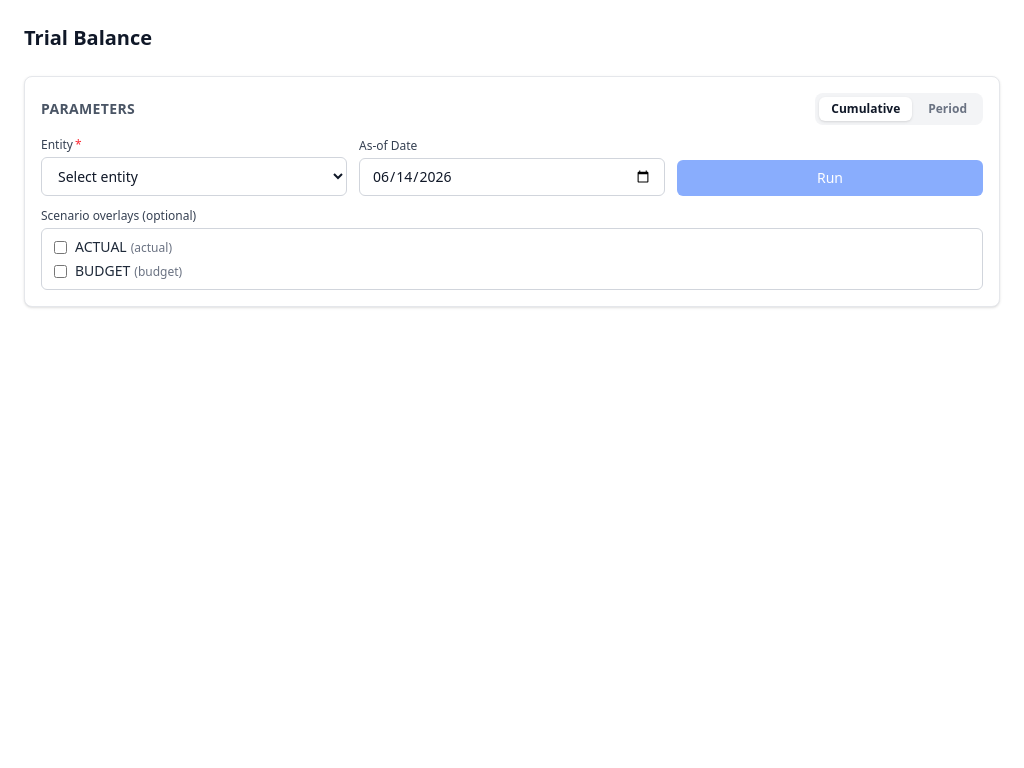
TrialBalancesPage › renders TB rows with type grouping after data loads
Select "ACME — Acme Corp" in the dropdown at [194, 176], box [41, 157, 347, 196]
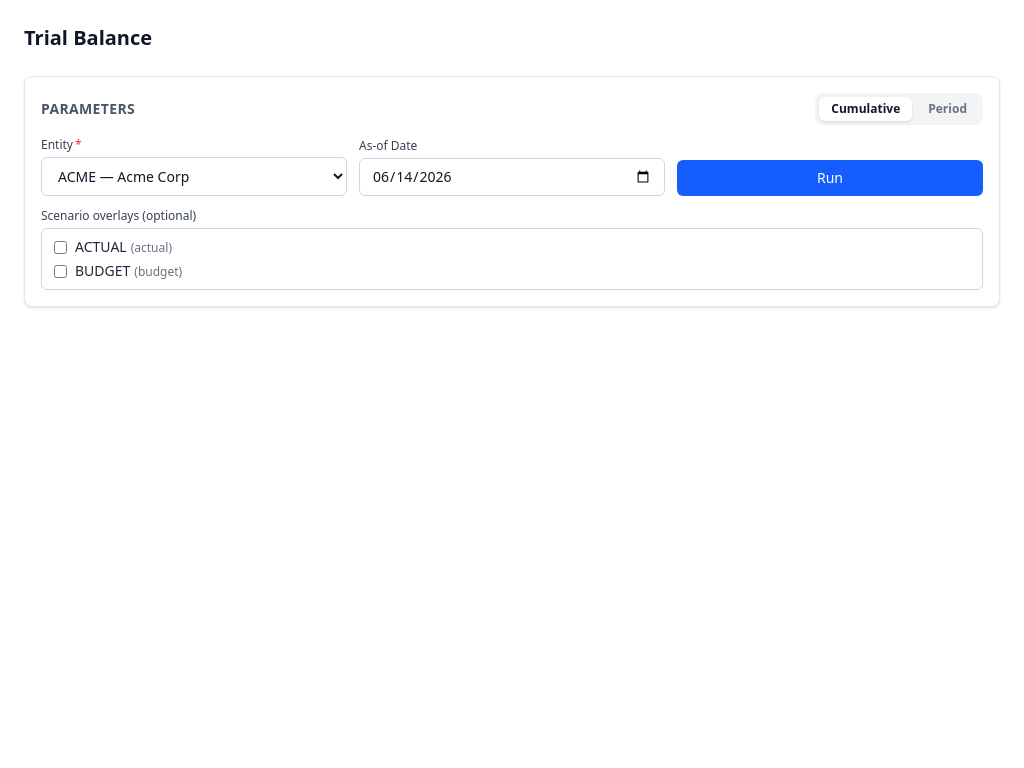
Click the button "Run" at [830, 178], box [677, 160, 983, 196]
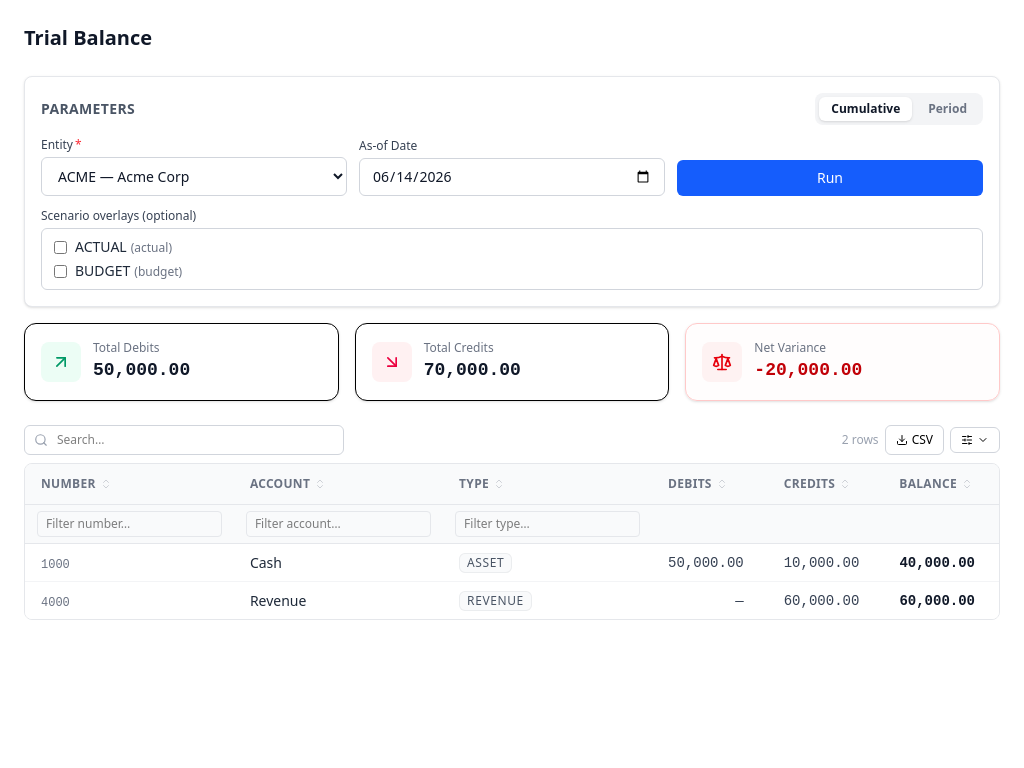
Expected: the element with test id "trial-balance-table" is shown, [24, 417, 1000, 620]
Expected: the text "Cash" is shown, [250, 552, 282, 572]
Expected: the text "Revenue" is shown, [250, 590, 306, 610]
